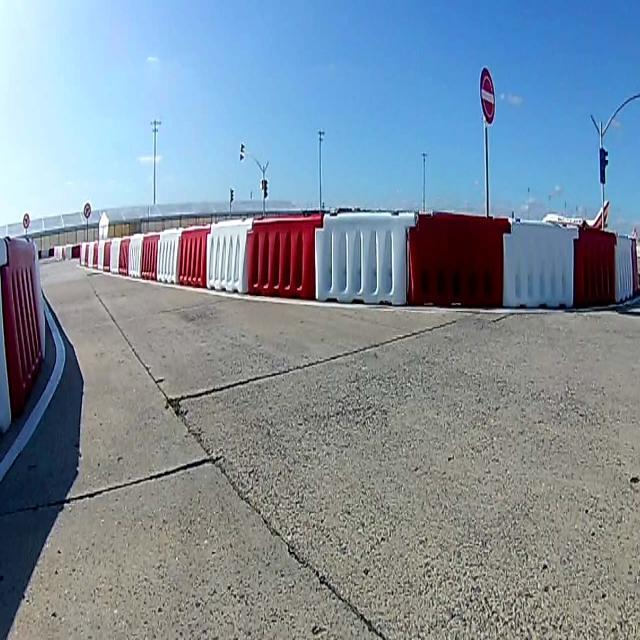girisyok: (478, 63, 496, 124)
